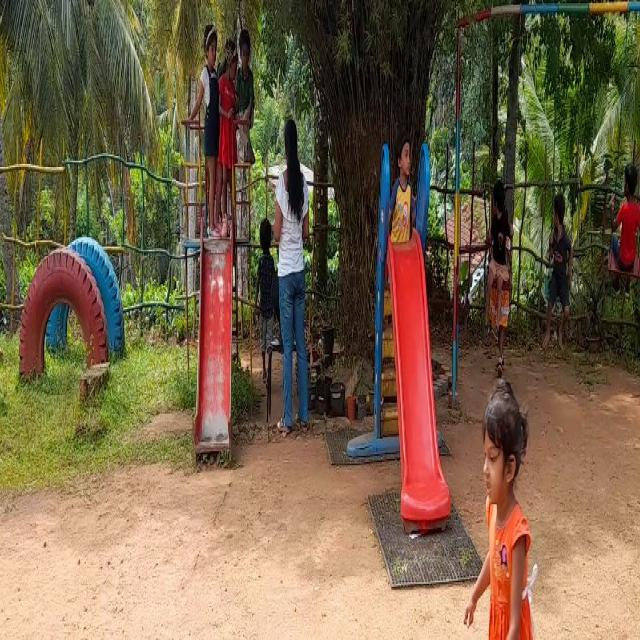adult: (272, 108, 320, 420)
child: (470, 390, 532, 640), (196, 9, 223, 230), (607, 148, 640, 323), (482, 155, 510, 338), (385, 113, 420, 241), (546, 193, 574, 344), (217, 24, 236, 230)
